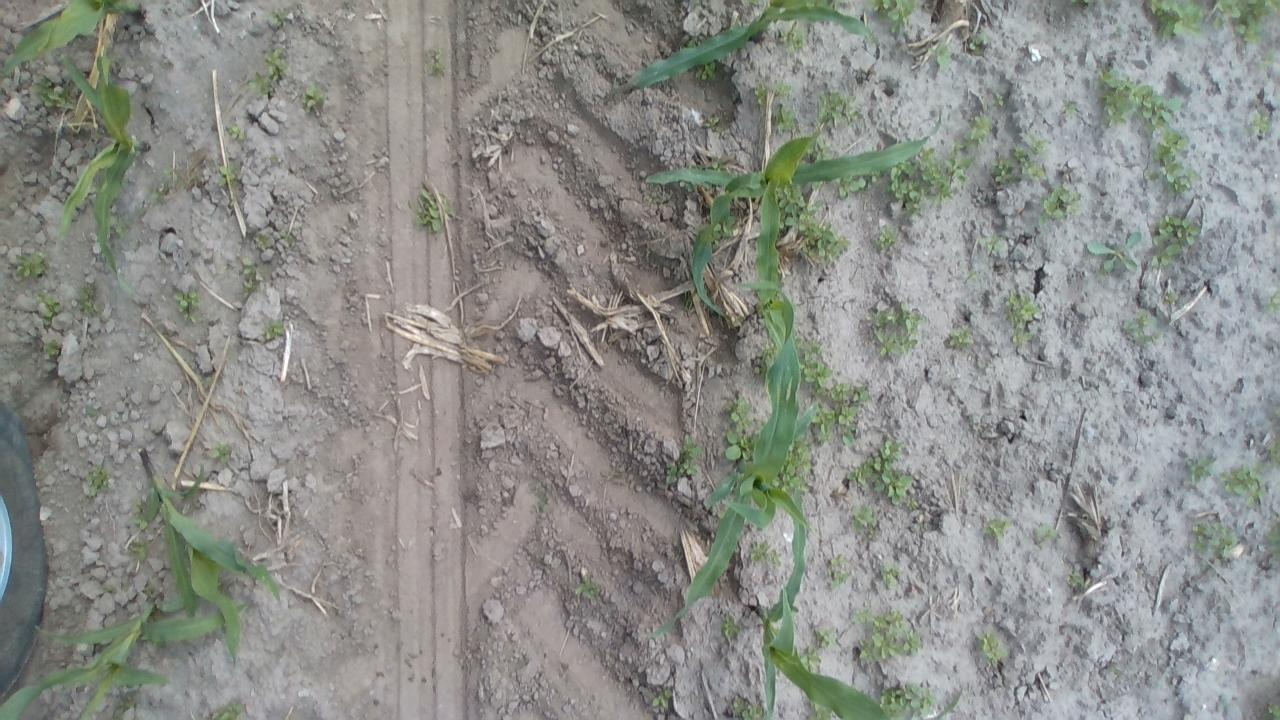Maize: (648, 114, 943, 314), (648, 277, 812, 635), (756, 496, 962, 714), (0, 588, 257, 720), (132, 446, 284, 664), (620, 0, 874, 98), (58, 50, 152, 294), (2, 0, 142, 80)
Weeds: (1100, 68, 1181, 127), (844, 439, 914, 507), (814, 375, 870, 441), (866, 299, 922, 357), (991, 136, 1048, 187), (1214, 0, 1277, 44), (1156, 132, 1196, 200), (1154, 212, 1202, 262), (920, 154, 970, 201), (801, 220, 850, 267), (1147, 0, 1203, 39), (891, 157, 930, 212), (1088, 231, 1140, 272), (1191, 516, 1239, 558), (1004, 290, 1040, 346), (776, 187, 822, 228), (1221, 464, 1267, 505), (666, 436, 702, 485), (866, 610, 902, 654), (880, 686, 935, 714), (37, 74, 75, 114), (802, 341, 834, 388), (414, 188, 448, 232), (877, 0, 917, 36), (1122, 308, 1160, 345), (1040, 185, 1079, 221), (777, 442, 807, 488), (146, 168, 182, 206), (817, 92, 857, 124), (746, 537, 782, 571), (113, 6, 143, 42), (14, 249, 48, 279), (1184, 453, 1216, 484), (750, 338, 774, 378), (836, 176, 876, 199), (173, 288, 200, 322), (728, 693, 764, 718), (298, 82, 326, 114), (724, 431, 754, 460), (244, 72, 280, 96), (828, 555, 852, 591), (984, 514, 1014, 542), (210, 697, 246, 719), (853, 507, 880, 536), (976, 628, 1000, 660), (752, 79, 788, 100), (945, 326, 976, 350), (75, 282, 98, 314), (108, 693, 136, 719), (772, 105, 798, 133), (720, 611, 742, 644), (530, 480, 550, 516), (41, 293, 62, 327), (209, 440, 236, 466), (1032, 522, 1058, 548), (971, 114, 994, 143), (86, 466, 108, 496), (874, 226, 899, 252), (240, 257, 258, 292), (726, 400, 750, 426), (786, 27, 807, 56), (711, 216, 736, 238), (215, 163, 237, 187), (901, 630, 922, 655), (880, 564, 900, 590), (704, 153, 731, 171), (266, 50, 288, 72), (576, 578, 598, 600), (268, 8, 292, 28), (430, 48, 446, 77), (815, 626, 836, 648), (968, 28, 988, 51), (1250, 111, 1269, 135), (1264, 525, 1276, 562), (934, 41, 951, 67), (250, 229, 271, 250), (1066, 568, 1086, 589), (112, 215, 130, 238), (983, 234, 1003, 254), (264, 320, 284, 340), (654, 688, 672, 710), (699, 62, 717, 82), (130, 541, 148, 560), (227, 122, 244, 142), (599, 468, 621, 483), (1062, 98, 1080, 116), (134, 509, 148, 532), (1259, 46, 1275, 66), (44, 342, 62, 358), (1265, 441, 1276, 466), (1264, 292, 1276, 314), (279, 228, 294, 244), (705, 115, 721, 130), (992, 92, 1005, 109), (964, 269, 980, 282), (1264, 702, 1276, 719), (950, 141, 967, 151), (1164, 291, 1178, 303), (268, 153, 278, 165), (1076, 1, 1094, 6)
